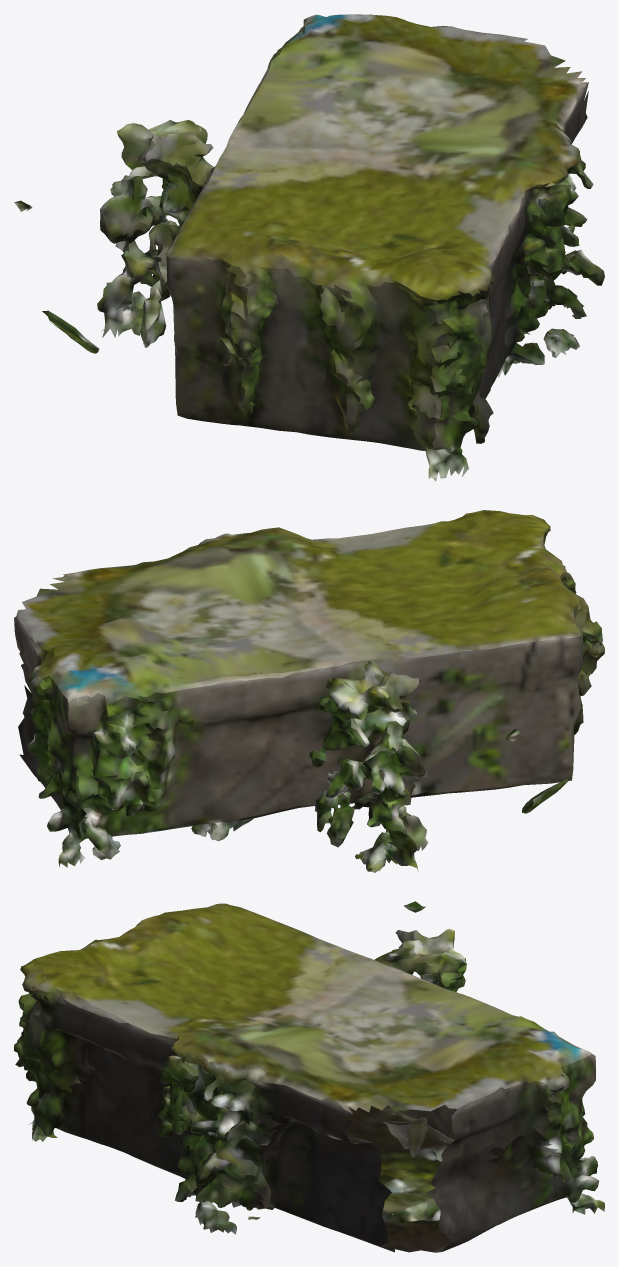
The model's file is F3D_08_StonePlatform.fbx.
3 renders of one model, top to bottom at view 1: azimuth 30°, elevation 25°; view 2: azimuth 150°, elevation 25°; view 3: azimuth 270°, elevation 25°, orthographic. The views are drawn at different scales.
Parts seen in each view (by area): view 1: F3D_08_StonePlatform; view 2: F3D_08_StonePlatform; view 3: F3D_08_StonePlatform.
Part boxes in pixels (<box>): F3D_08_StonePlatform: <box>14,14,604,481</box>; F3D_08_StonePlatform: <box>14,510,604,872</box>; F3D_08_StonePlatform: <box>14,901,604,1252</box>.
Bounding box in the file's own units: 2.78 × 1 × 3.03.
1 material, 1 textured.
